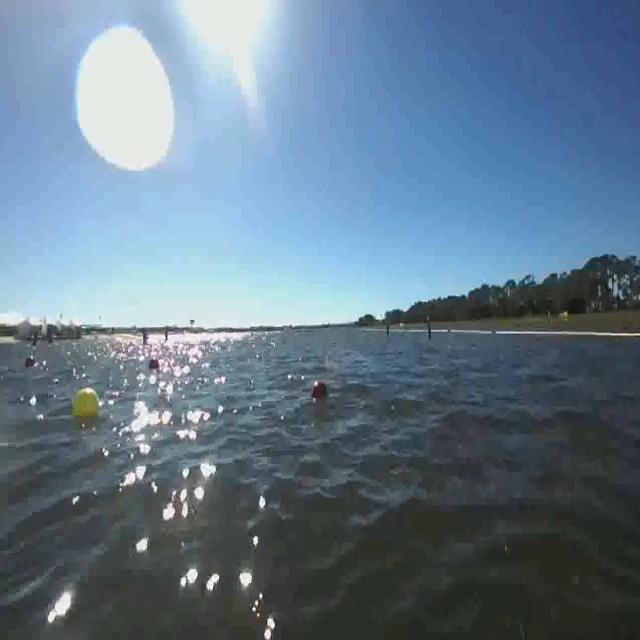red-buoy: (311, 380, 327, 403)
yellow-buoy: (74, 386, 102, 421)
